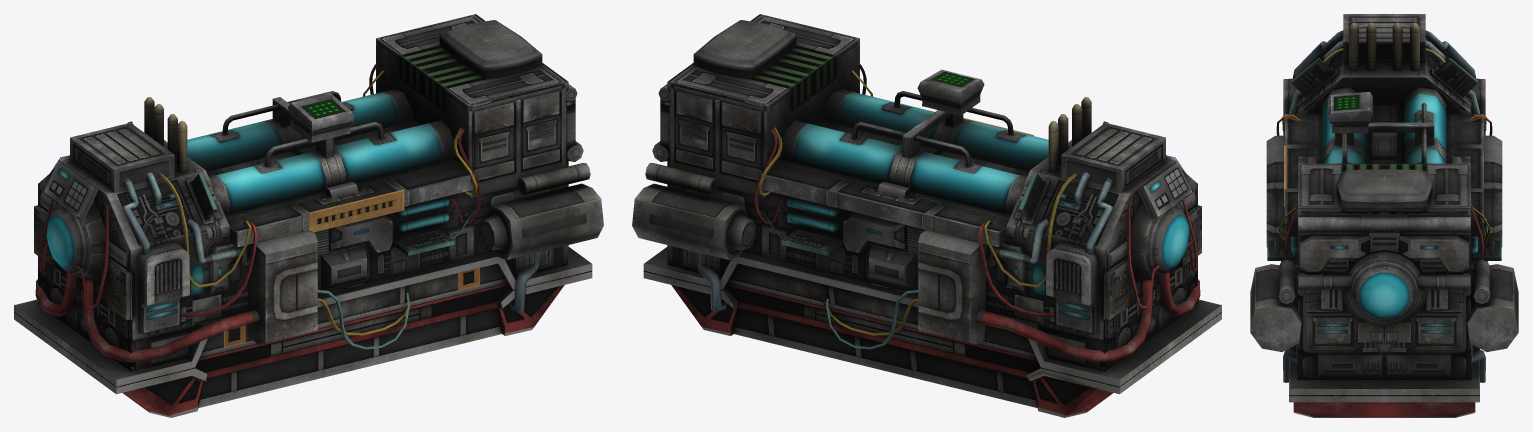
The model's file is ark_prototype.dae.
3 renders of one model, left to right at view 1: azimuth 30°, elevation 25°; view 2: azimuth 150°, elevation 25°; view 3: azimuth 270°, elevation 25°, orthographic. The views are drawn at different scales.
Parts seen in each view (by area): view 1: Ark_prototype_polymsh; view 2: Ark_prototype_polymsh; view 3: Ark_prototype_polymsh.
Part boxes in pixels (<box>): Ark_prototype_polymsh: <box>14,14,603,417</box>; Ark_prototype_polymsh: <box>632,14,1221,417</box>; Ark_prototype_polymsh: <box>1250,14,1518,417</box>.
Bounding box in the file's own units: 204 × 104 × 103.
